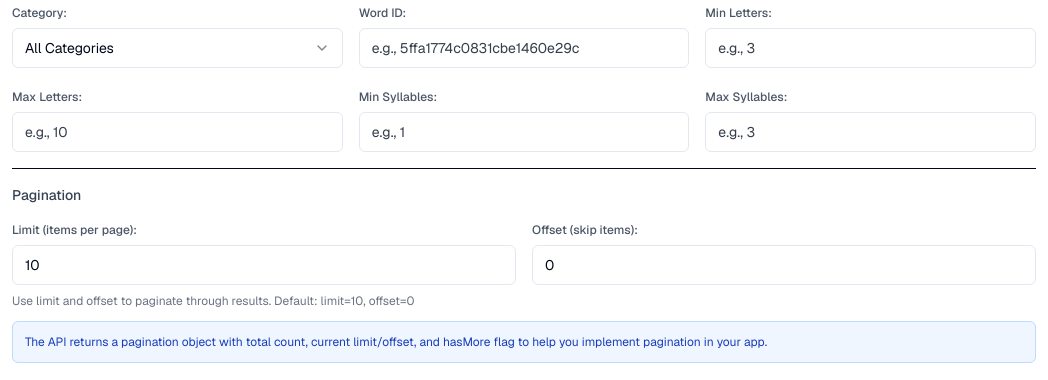
Test case: FilterForm › should display all categories in the select
Click the dropdown.
click(69, 48)  # box x1=12 y1=28 x2=343 y2=68
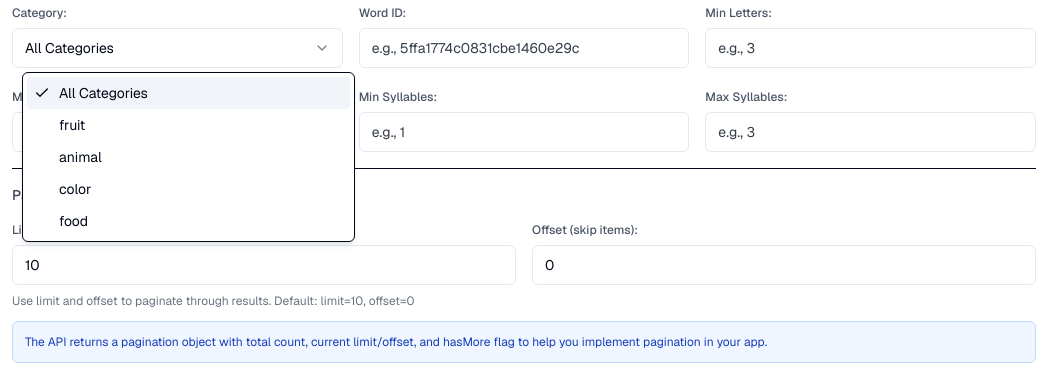
Check: the text "fruit" is shown, box x1=59 y1=115 x2=85 y2=135
Check: the text "animal" is shown, box x1=59 y1=147 x2=102 y2=167
Check: the text "color" is shown, box x1=59 y1=179 x2=91 y2=199
